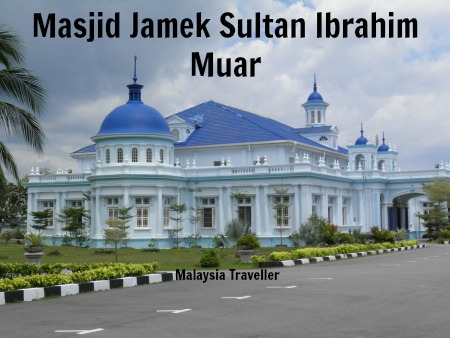Mosque: (28, 65, 400, 254)
